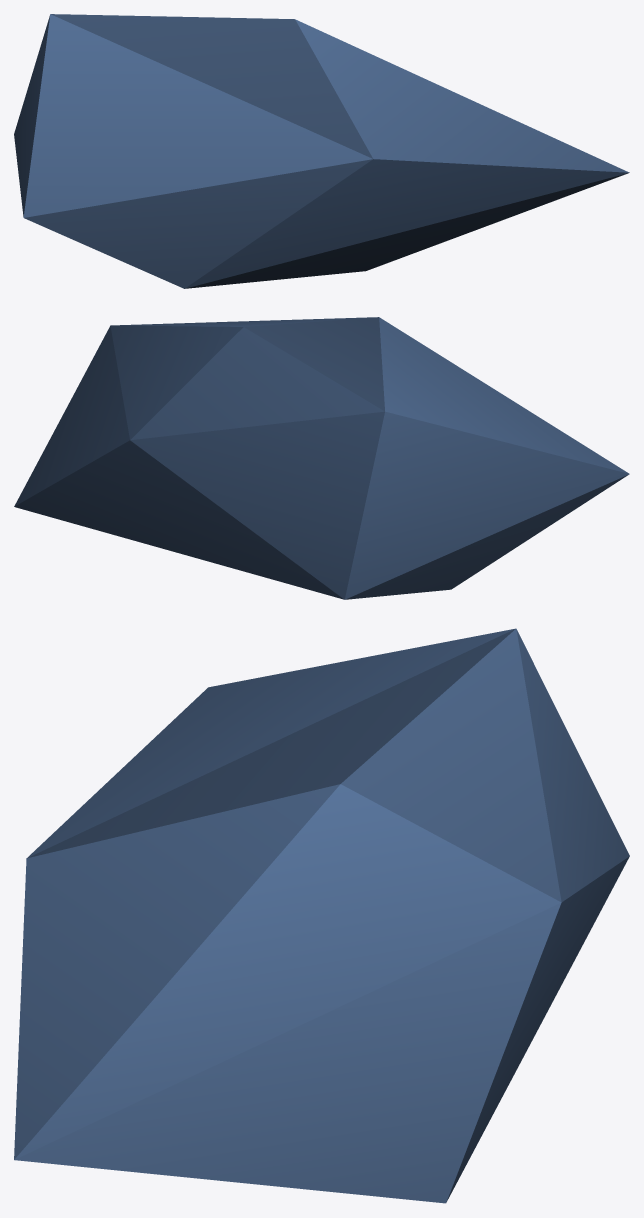
File: iron-bacteria.glb
The picture shows the model from 3 angles, top to bottom: view 1: azimuth 30°, elevation 25°; view 2: azimuth 150°, elevation 25°; view 3: azimuth 270°, elevation 25°; orthographic projection. The views are drawn at different scales.
Parts seen in each view (by area): view 1: iron-bacteria; view 2: iron-bacteria; view 3: iron-bacteria.
Boxes of the visible parts, left/top/right/bottom form: iron-bacteria: left=14, top=14, right=629, bottom=288; iron-bacteria: left=14, top=317, right=629, bottom=599; iron-bacteria: left=14, top=628, right=629, bottom=1203.
Bounding box in the file's own units: 0.22 × 0.08 × 0.14.
